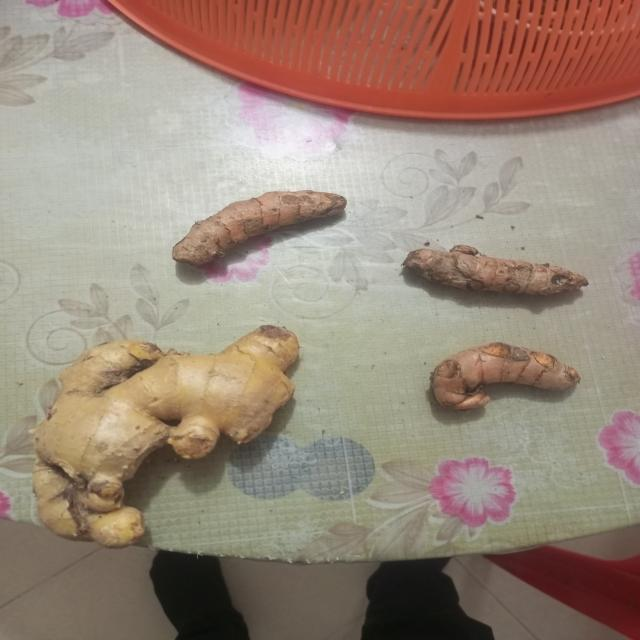ginger: (38, 330, 296, 540), (175, 190, 345, 264), (434, 344, 582, 412), (413, 244, 587, 300)
